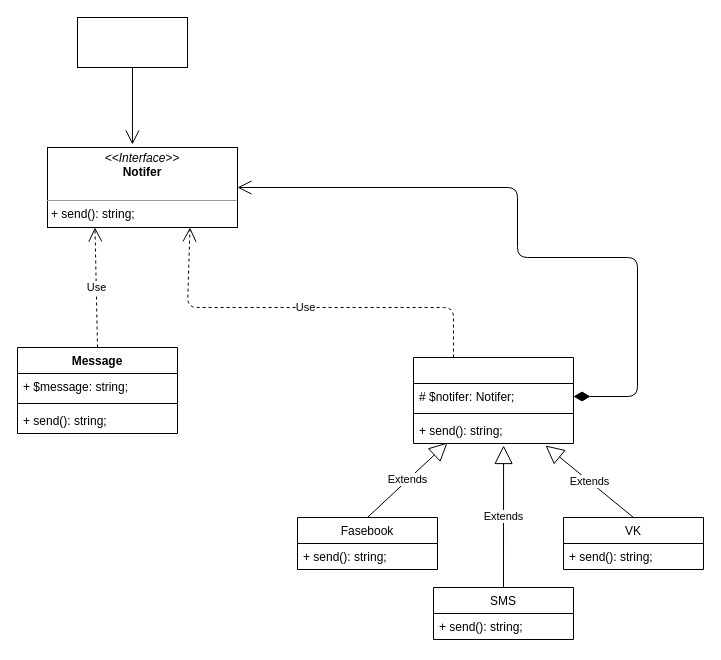
Some shapes in this 721 by 660 pixel diagram are drawn without their labels. Each missing label, with the box of its shape:
BaseDecorator: (412, 356, 574, 444)
clientCode: (76, 16, 188, 68)
